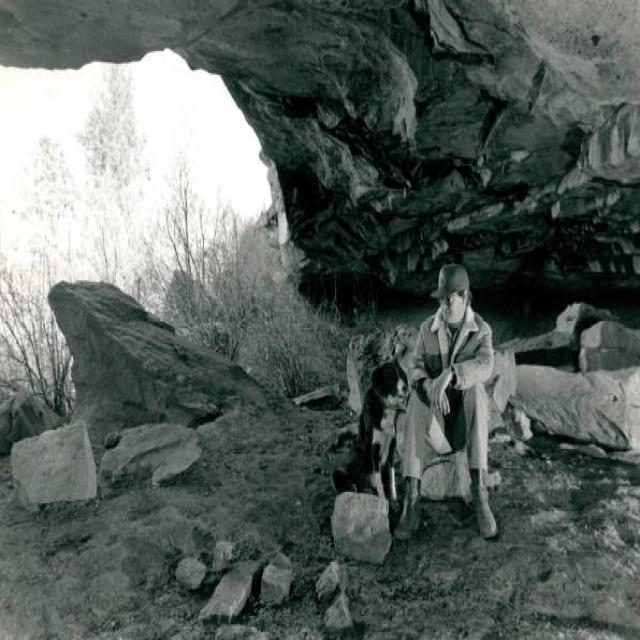civilian: (402, 264, 496, 535)
